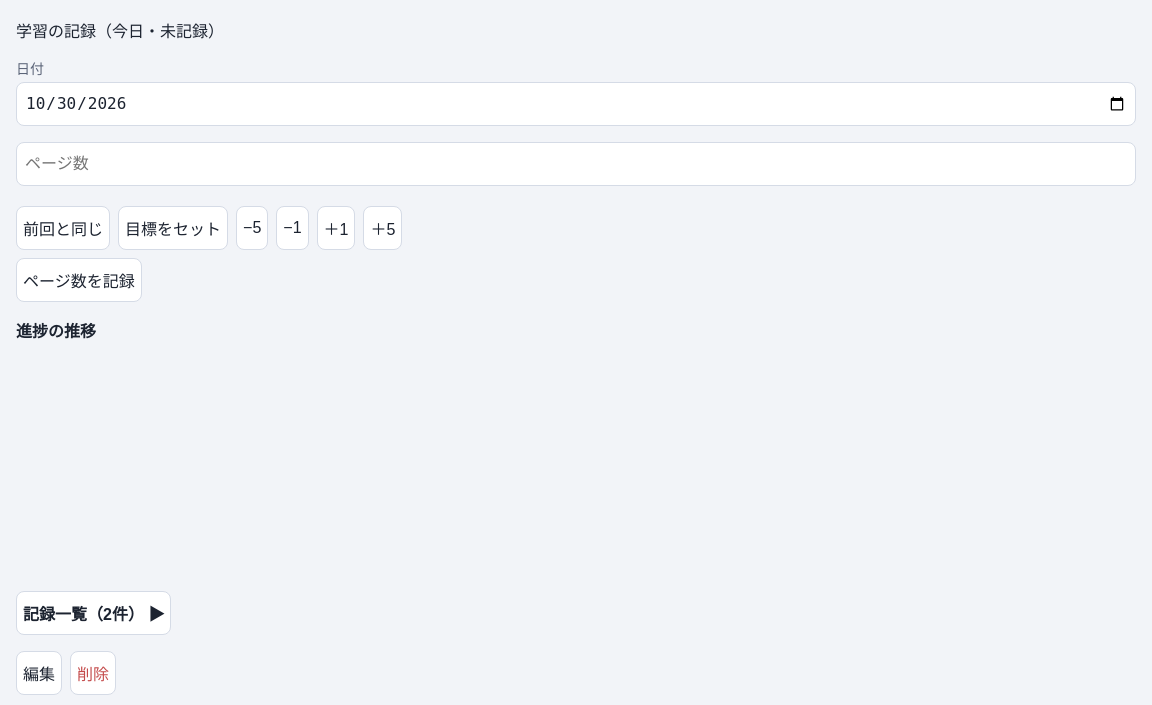
it: BookDetailScreen › lists each record with its date and pages
(page scrolled)
Click the button with test id "record-list-toggle" at (94, 613), box 16,591 -> 171,635
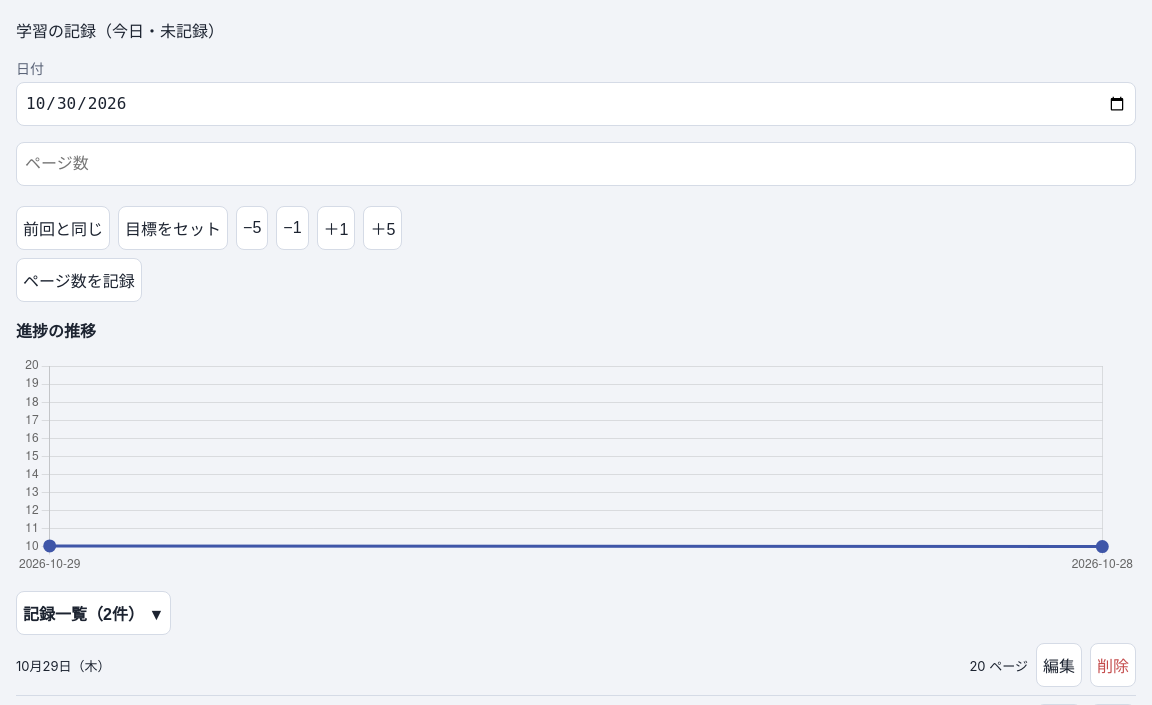
Check: the element with test id "record-row-r2" shows "20 ページ", box 16,635 -> 1136,696
